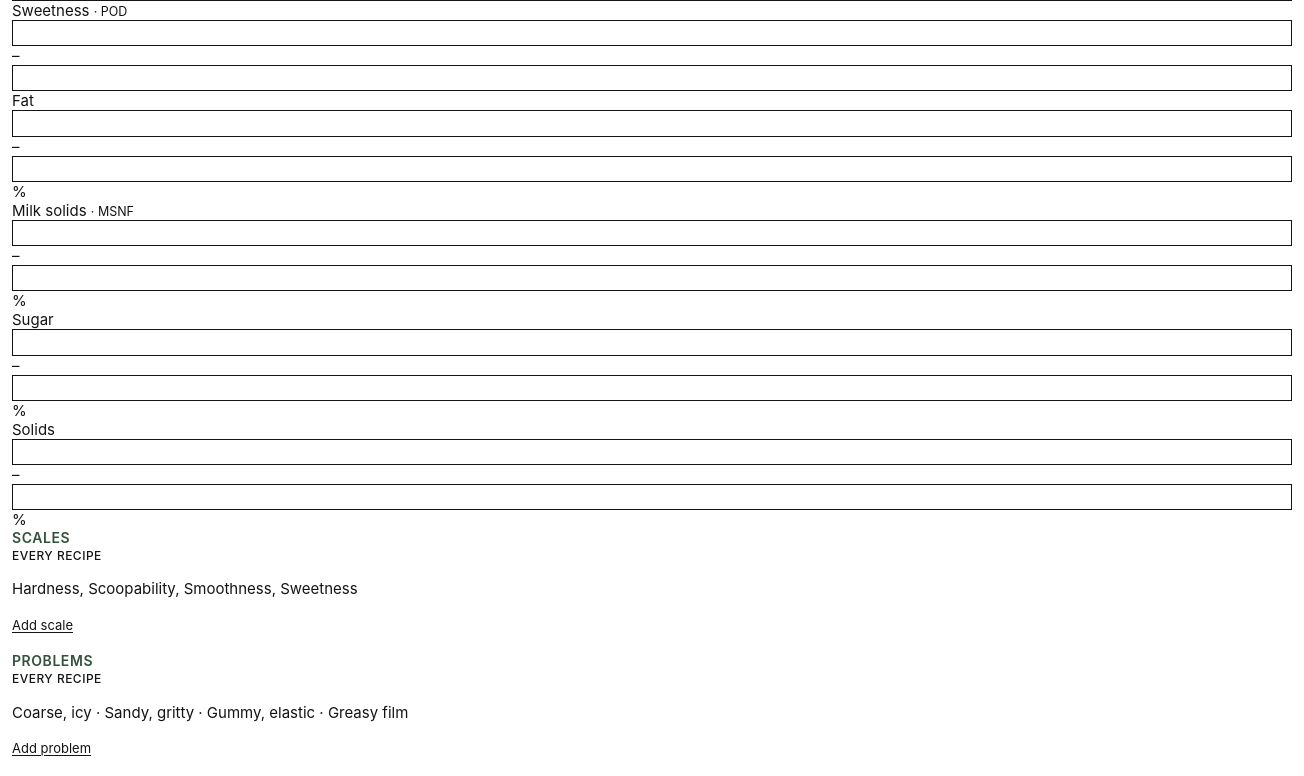
Test: CreationSetup, the Scales and Problems regions (TASTE-01, TASTE-02, decision 12, T-04) › a just-added scale has blank words, three Required lines, no kind picked and no stops line
This screenshot has width=1304, height=776.
(page scrolled)
Click the button with class "mk-add" showing "Add scale". click: [42, 626]
box: [12, 614, 73, 638]
(page scrolled)
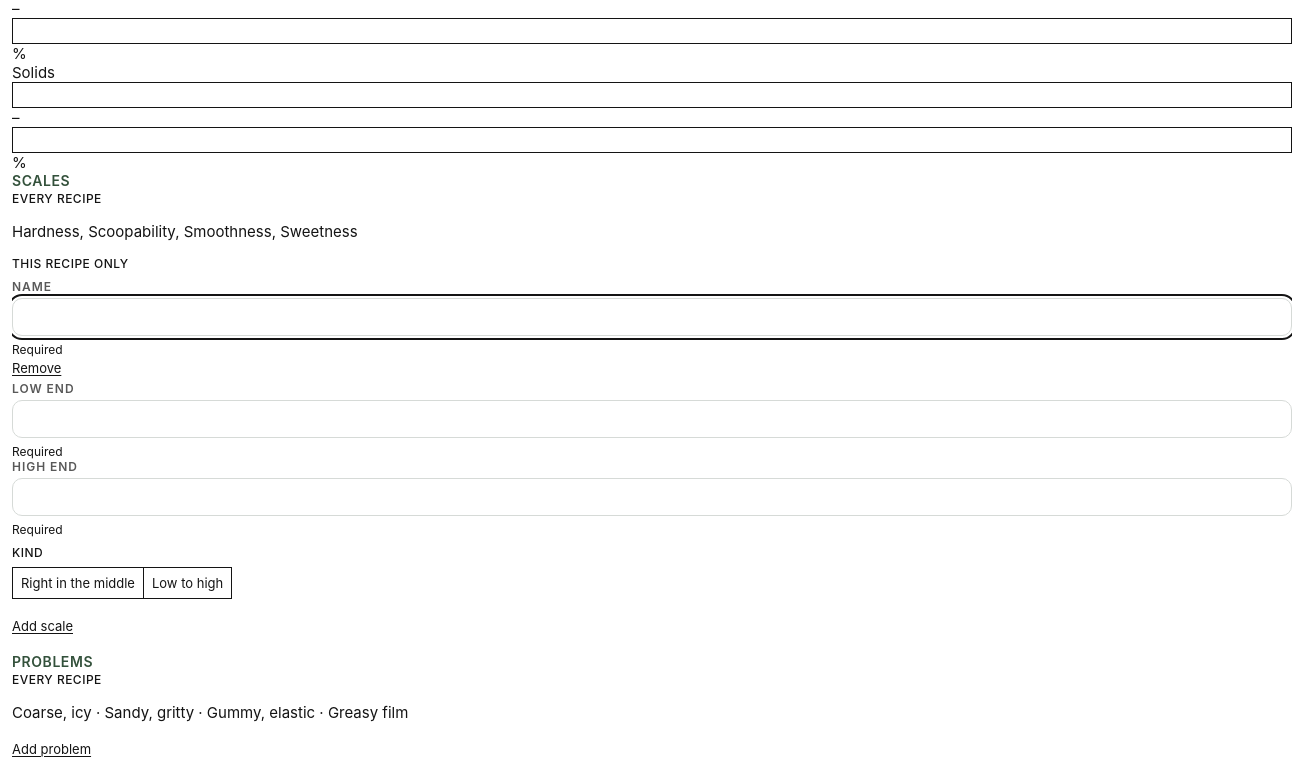
Expected: the number of elements with class "field-requirement" is 3, [12, 342, 63, 357]; [12, 444, 63, 459]; [12, 522, 63, 537]
